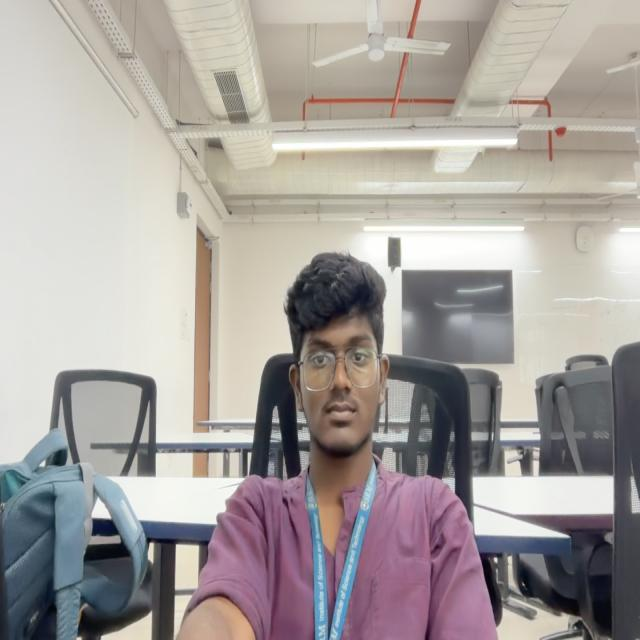ravindra: (284, 250, 390, 460)
